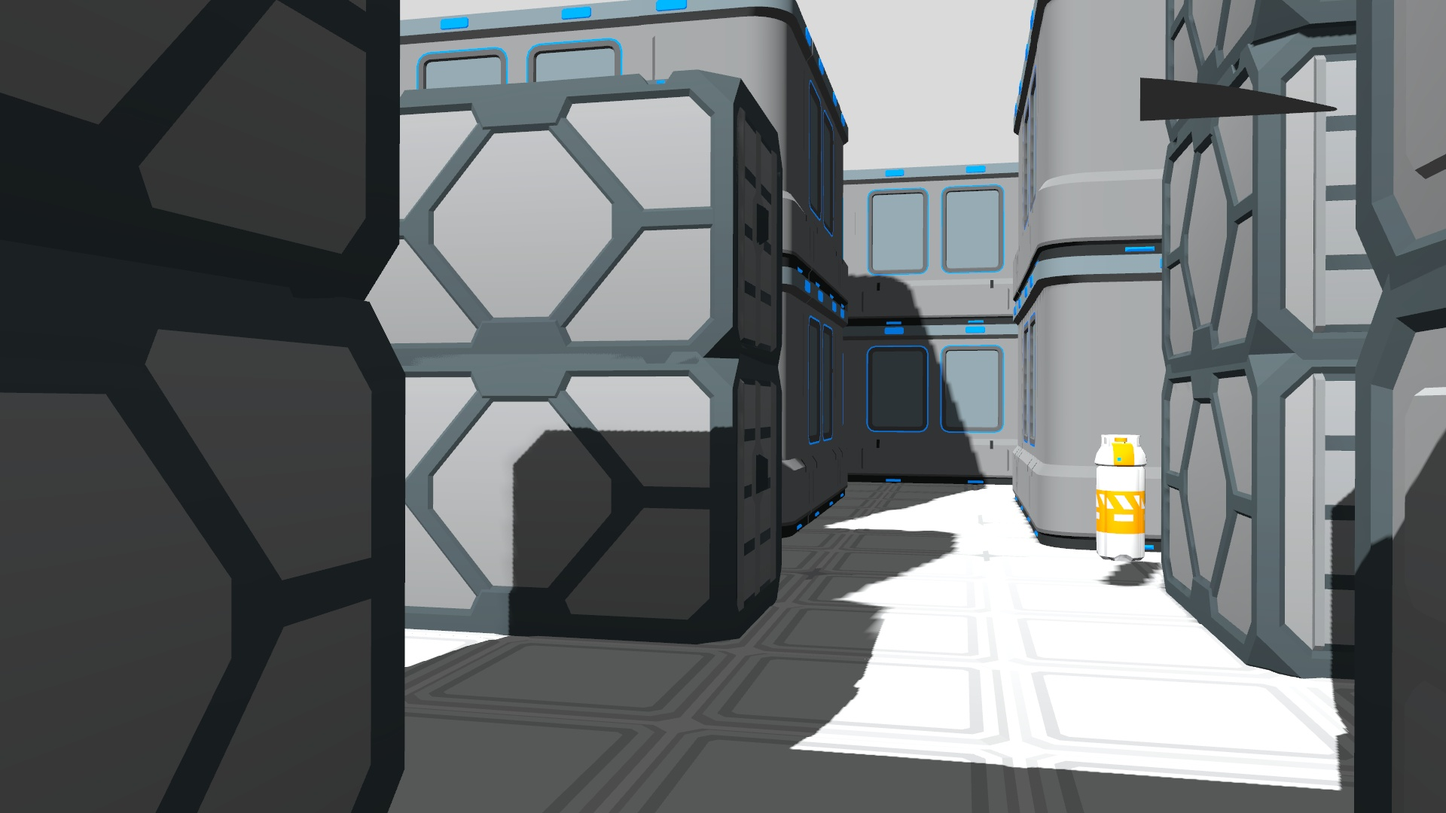yellow_barrel: (1090, 428, 1149, 561)
